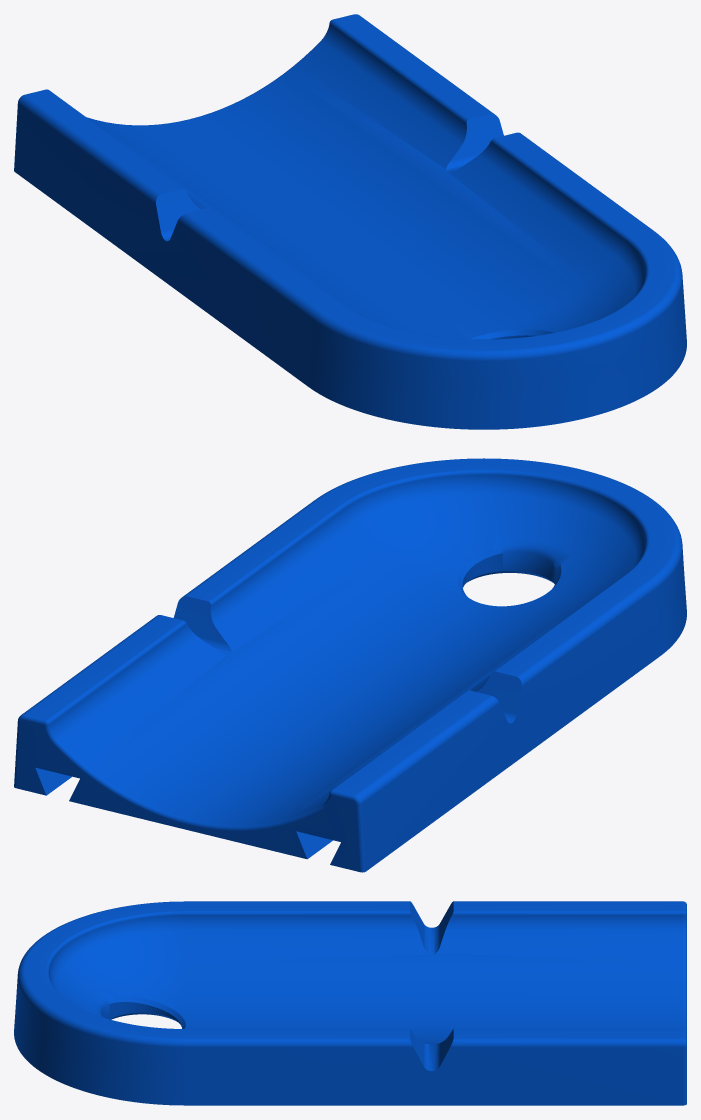
File: finger-cup.glb
3 renders of one model, top to bottom at view 1: azimuth 30°, elevation 25°; view 2: azimuth 150°, elevation 25°; view 3: azimuth 270°, elevation 25°, orthographic. The views are drawn at different scales.
Visible parts, largest first — view 1: Finger cup; view 2: Finger cup; view 3: Finger cup.
Boxes of the visible parts, left/top/right/bottom form: Finger cup: left=14, top=14, right=686, bottom=429; Finger cup: left=14, top=458, right=686, bottom=872; Finger cup: left=14, top=901, right=686, bottom=1105.
Size of the model in its own units: 0.0189 by 0.0038 by 0.0369.
